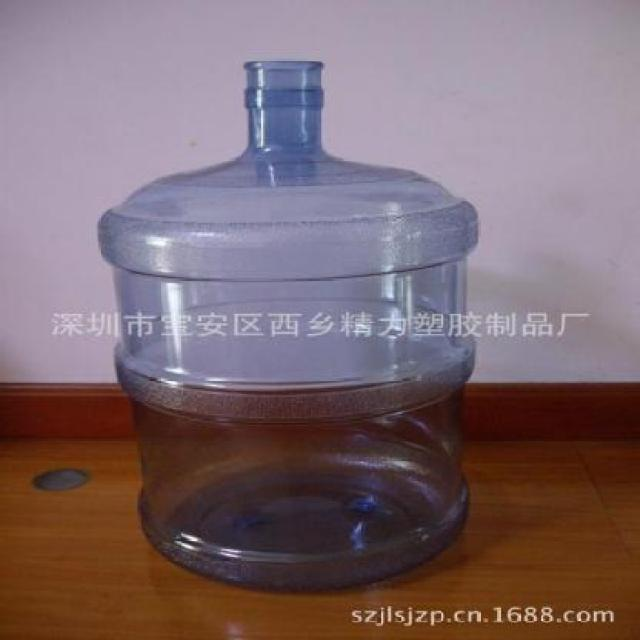coolerbottle: (94, 56, 488, 600)
